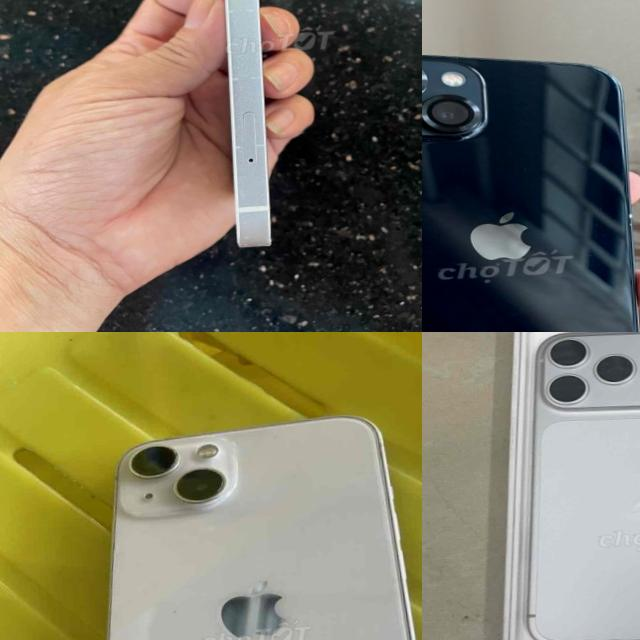physical_damage: (617, 203, 640, 227)
